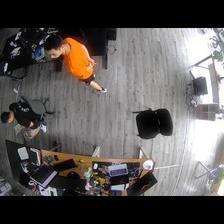normal: (43, 35, 109, 98), (2, 96, 49, 141)
